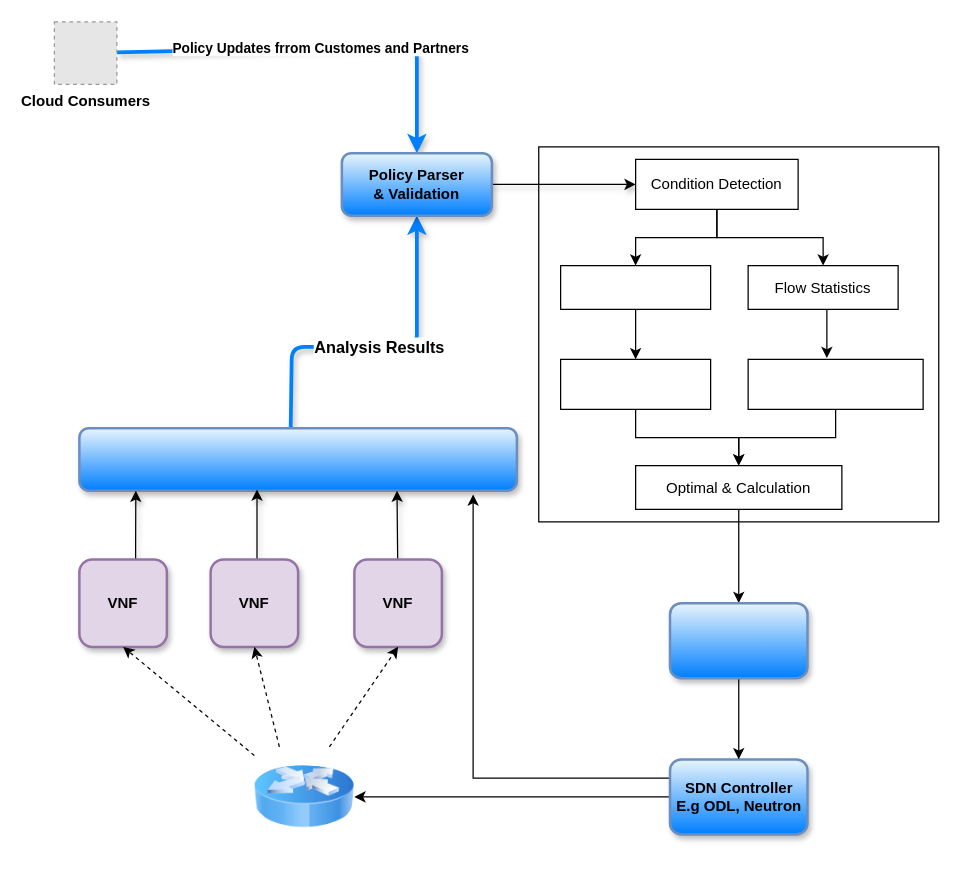
Image size: 961x869. Some labels were removed from this diagram. Grey dashed boxes stand in for pictures. The shapes that lost their labels are listed below. From the top down, each one's centre as x and y in pixels, then its label:
At point 635,286: "SLA Storage".
At point 635,383: "Buffer Cost Analysis".
At point 835,383: "Migration Cost Analysis".
At point 298,460: "NF Status Connection".
At point 739,642: "Migration Control (OpenNF)".
